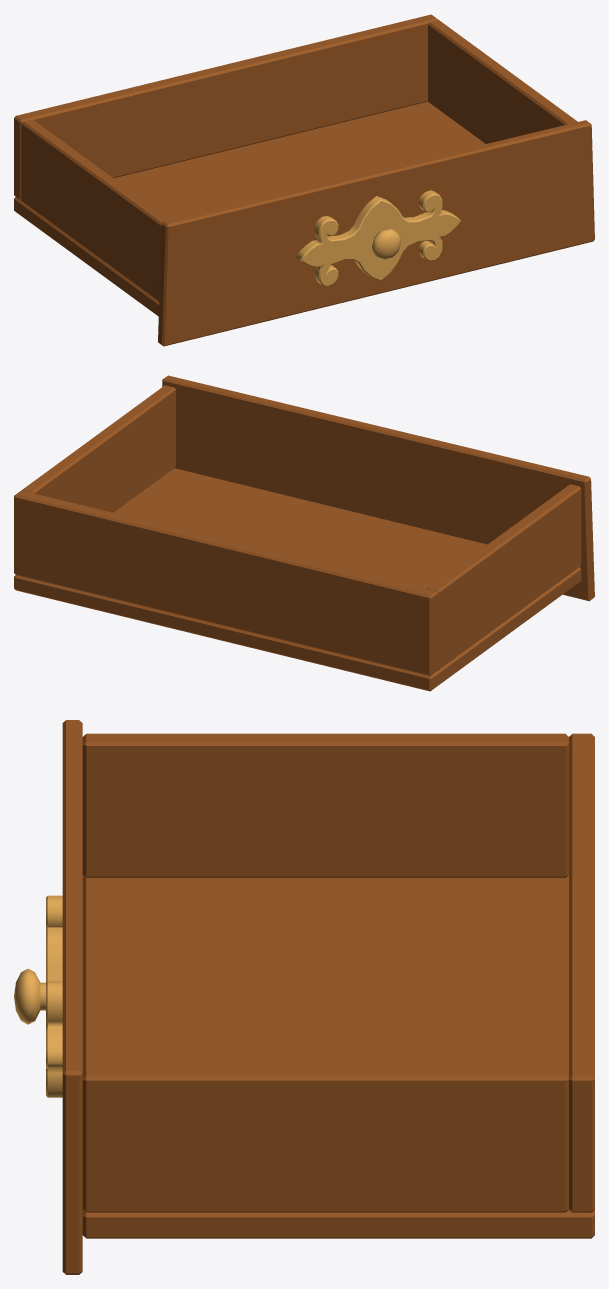
Rendered from Nightstand2_1.fbx.
The picture shows the model from 3 angles, top to bottom: view 1: azimuth 30°, elevation 25°; view 2: azimuth 150°, elevation 25°; view 3: azimuth 270°, elevation 25°; orthographic projection. The views are drawn at different scales.
Parts seen in each view (by area): view 1: Nightstand2_1; view 2: Nightstand2_1; view 3: Nightstand2_1.
Boxes of the visible parts, x1,y1,x2,y2 form: Nightstand2_1: (14,14,594,346); Nightstand2_1: (14,375,594,691); Nightstand2_1: (14,720,594,1274).
Size of the model in its own units: 0.6856 by 0.1831 by 0.4719.
